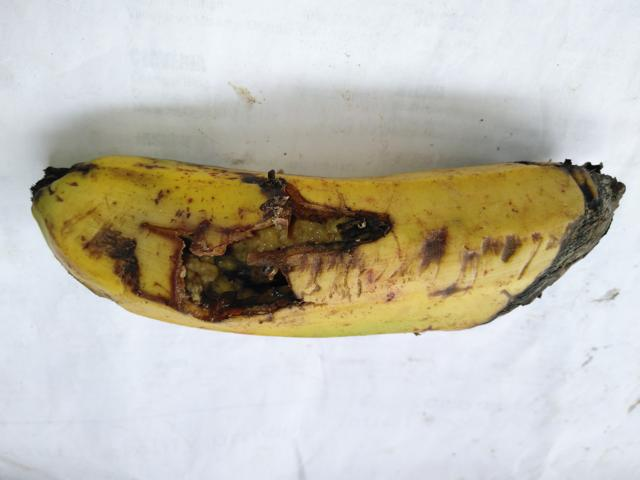rotten: (13, 117, 629, 380)
